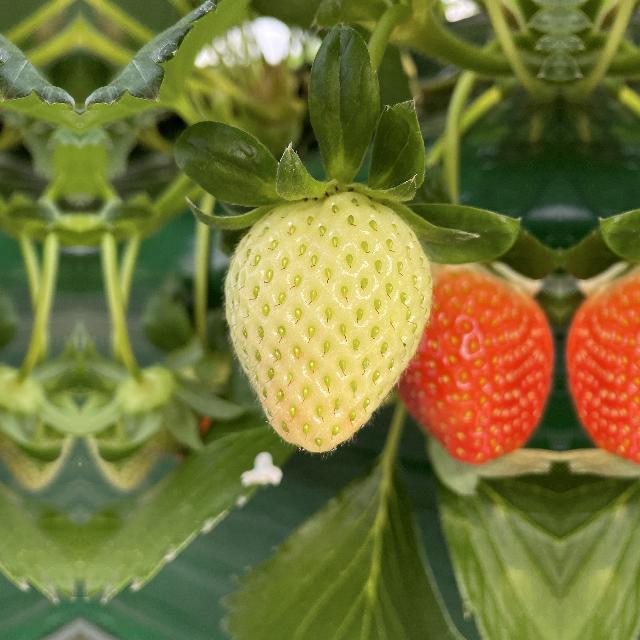Health_100: (397, 265, 555, 465), (565, 265, 640, 465)
Health_25: (220, 182, 438, 456)
